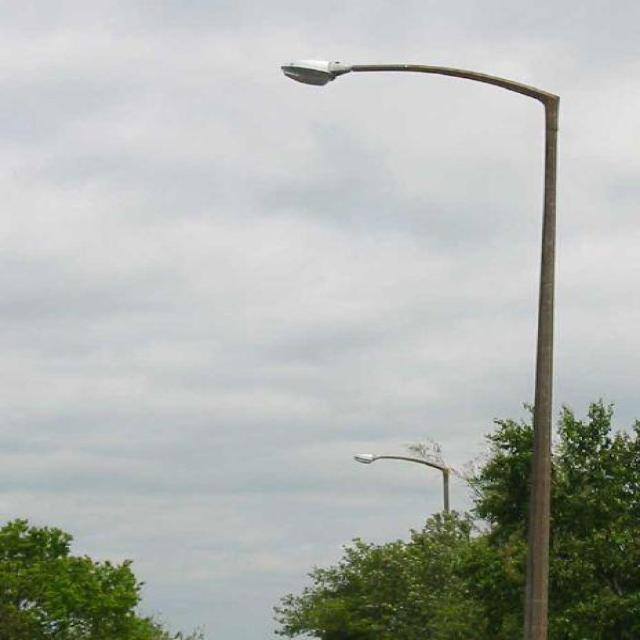off: (260, 13, 610, 184)
